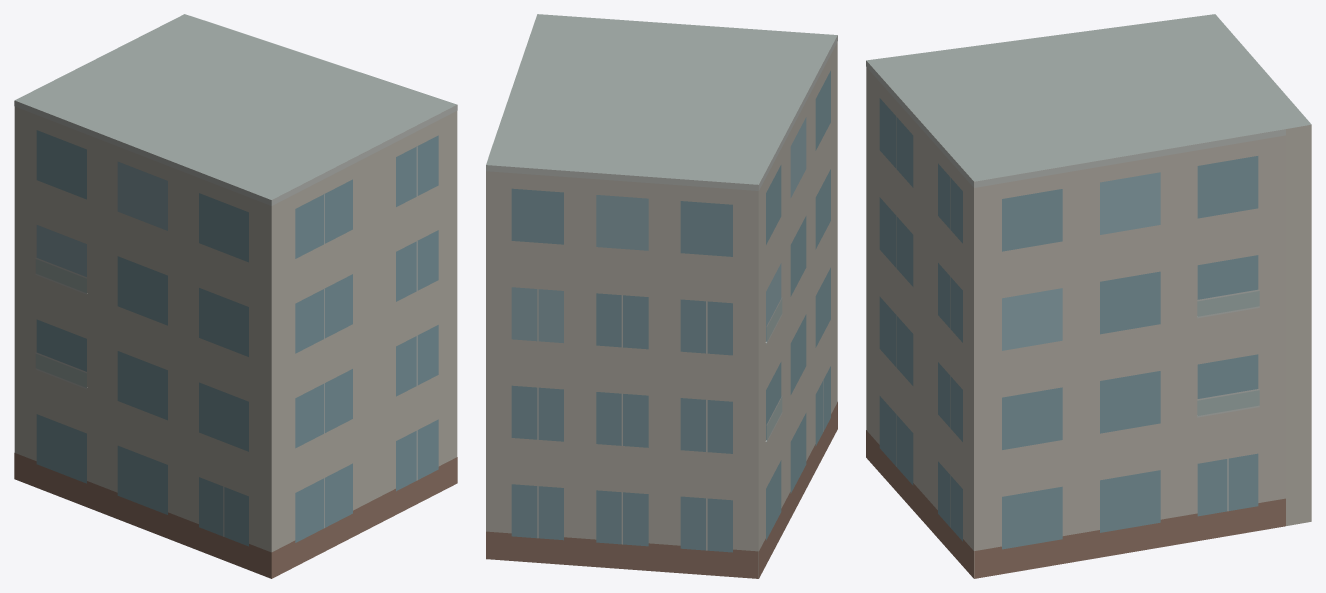
Rendered from survey-upis-32863990.glb.
3 renders of one model, left to right at view 1: azimuth 30°, elevation 25°; view 2: azimuth 150°, elevation 25°; view 3: azimuth 270°, elevation 25°, orthographic. The views are drawn at different scales.
Parts seen in each view (by area): view 1: survey-upis-32863990.tmp; view 2: survey-upis-32863990.tmp; view 3: survey-upis-32863990.tmp.
Part boxes in pixels (<box>): survey-upis-32863990.tmp: <box>14,14,457,578</box>; survey-upis-32863990.tmp: <box>486,14,837,578</box>; survey-upis-32863990.tmp: <box>866,14,1311,578</box>.
Size of the model in its own units: 14.05 by 15.5 by 15.77.
